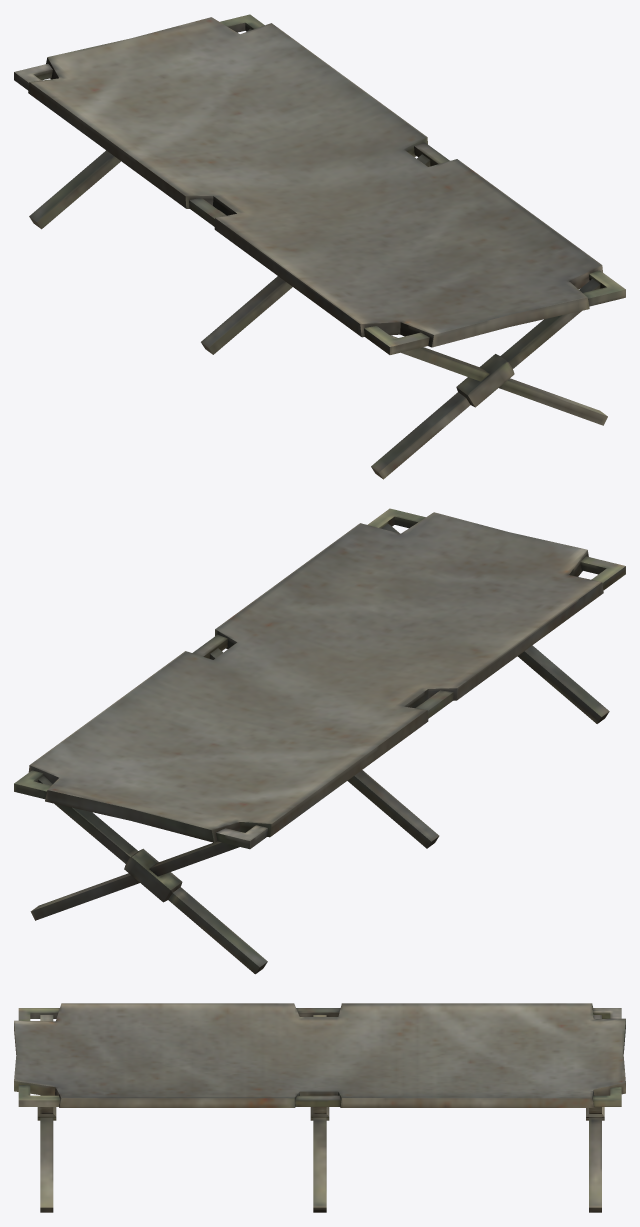
The model's file is CampBed.fbx.
3 views of the same model, one above another, from view 1: azimuth 30°, elevation 25°; view 2: azimuth 150°, elevation 25°; view 3: azimuth 270°, elevation 25° (orthographic). The views are drawn at different scales.
Parts seen in each view (by area): view 1: CampBed; view 2: CampBed; view 3: CampBed.
Boxes of the visible parts, x1,y1,x2,y2 form: CampBed: (14, 14, 625, 479); CampBed: (14, 508, 625, 974); CampBed: (14, 1003, 625, 1212).
Bounding box in the file's own units: 36.74 × 21.51 × 100.
